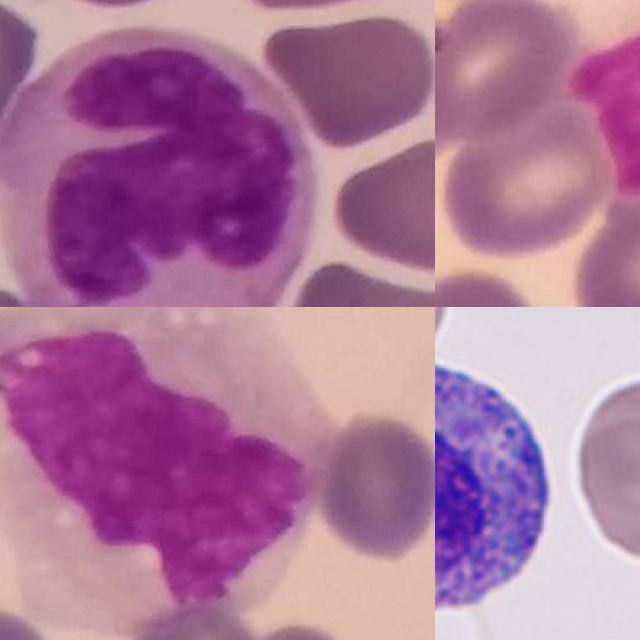Lymphocyte: (435, 346, 565, 624)
Monocyte: (0, 307, 335, 627), (0, 24, 316, 307), (573, 0, 640, 214)
RBC: (570, 412, 640, 565), (435, 576, 505, 640)
